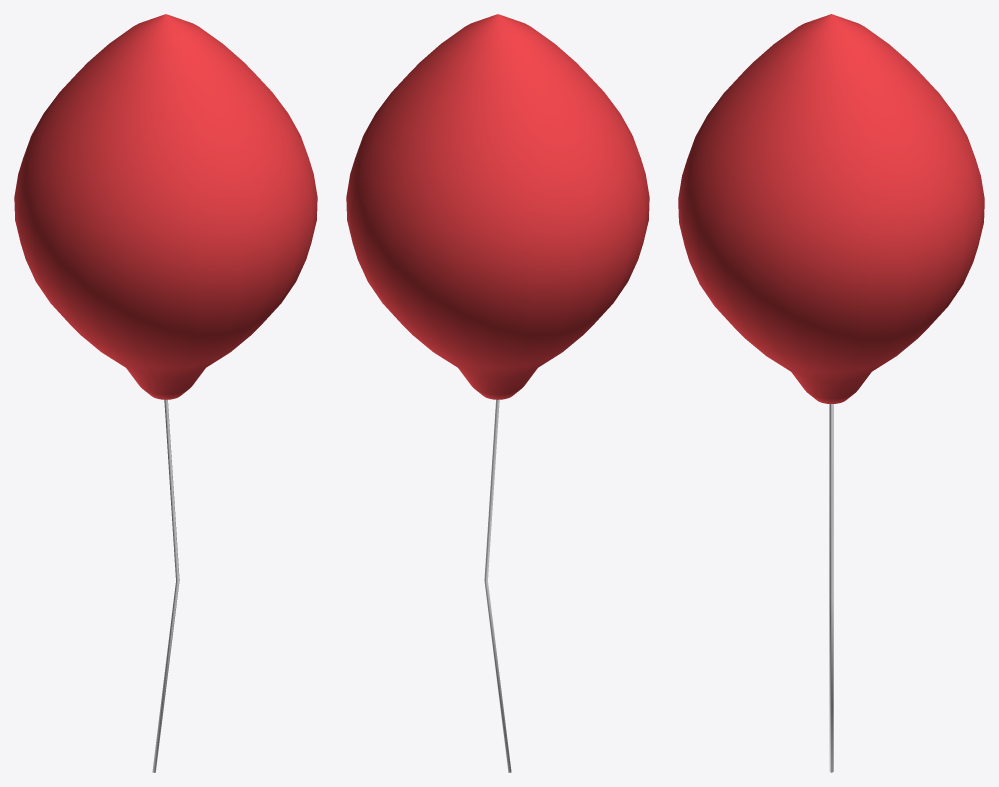
Rendered from balloon.glb.
The picture shows the model from 3 angles, left to right: view 1: azimuth 30°, elevation 25°; view 2: azimuth 150°, elevation 25°; view 3: azimuth 270°, elevation 25°; orthographic projection.
Visible parts, largest first — view 1: Balloon; view 2: Balloon; view 3: Balloon.
Part boxes in pixels (left/top/right/bottom): Balloon: left=14, top=14, right=317, bottom=772; Balloon: left=346, top=14, right=649, bottom=772; Balloon: left=678, top=14, right=984, bottom=772.
Bounding box in the file's own units: 0.222 × 0.6102 × 0.222.
